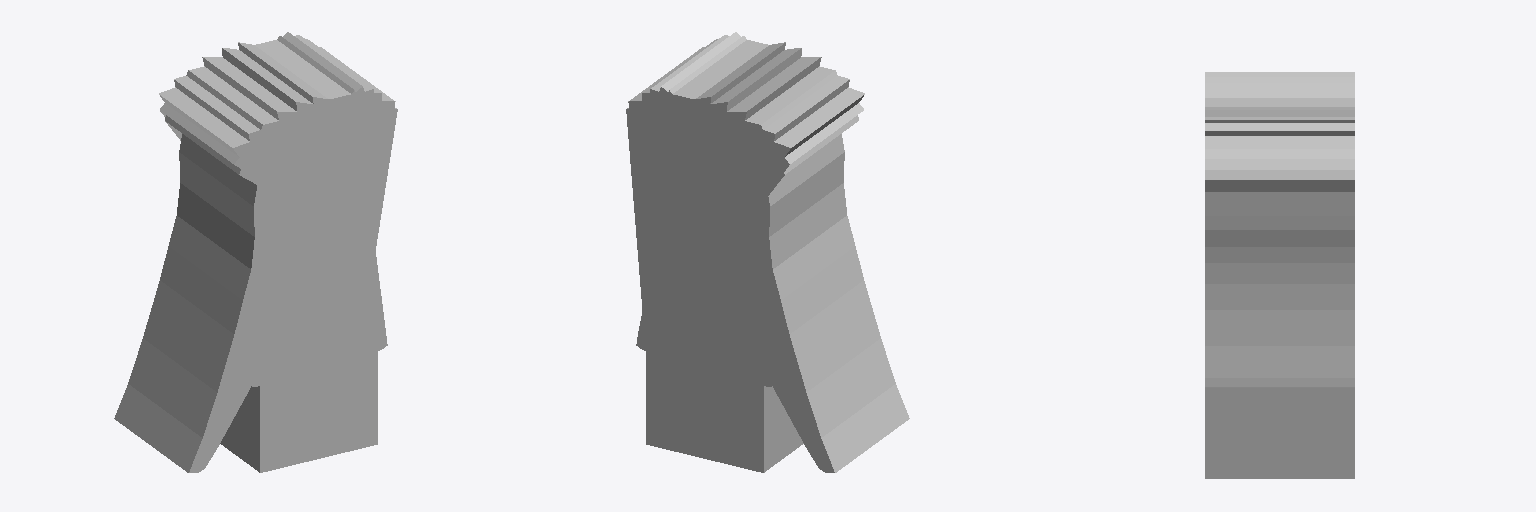
The model's file is Vaxhildan.obj.
3 renders of one model, left to right at view 1: azimuth 30°, elevation 25°; view 2: azimuth 150°, elevation 25°; view 3: azimuth 270°, elevation 25°, orthographic.
Parts seen in each view (by area): view 1: Plane.001; view 2: Plane.001; view 3: Plane.001.
Part boxes in pixels (x1,y1,x2,y2): Plane.001: (114,32,397,472); Plane.001: (626,32,909,472); Plane.001: (1205,72,1354,478).
Bounding box in the file's own units: 0.7825 × 1.3 × 0.4836.